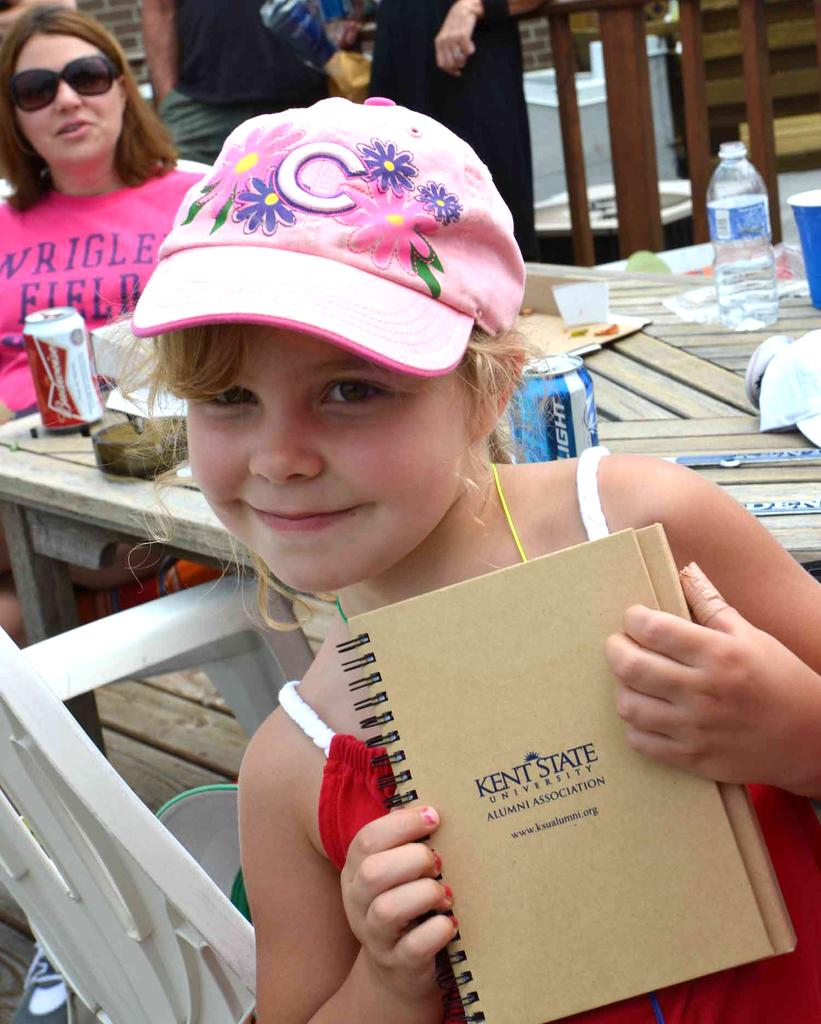Hat: (130, 88, 530, 382)
